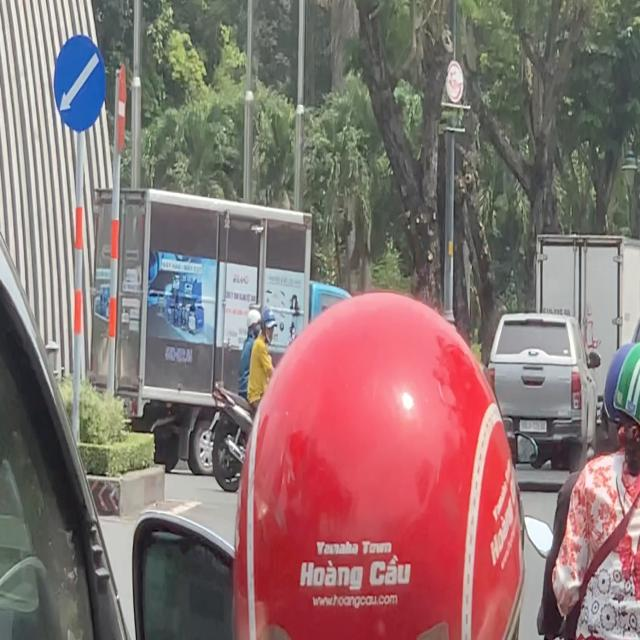Hieu lenh: (54, 35, 106, 132)
